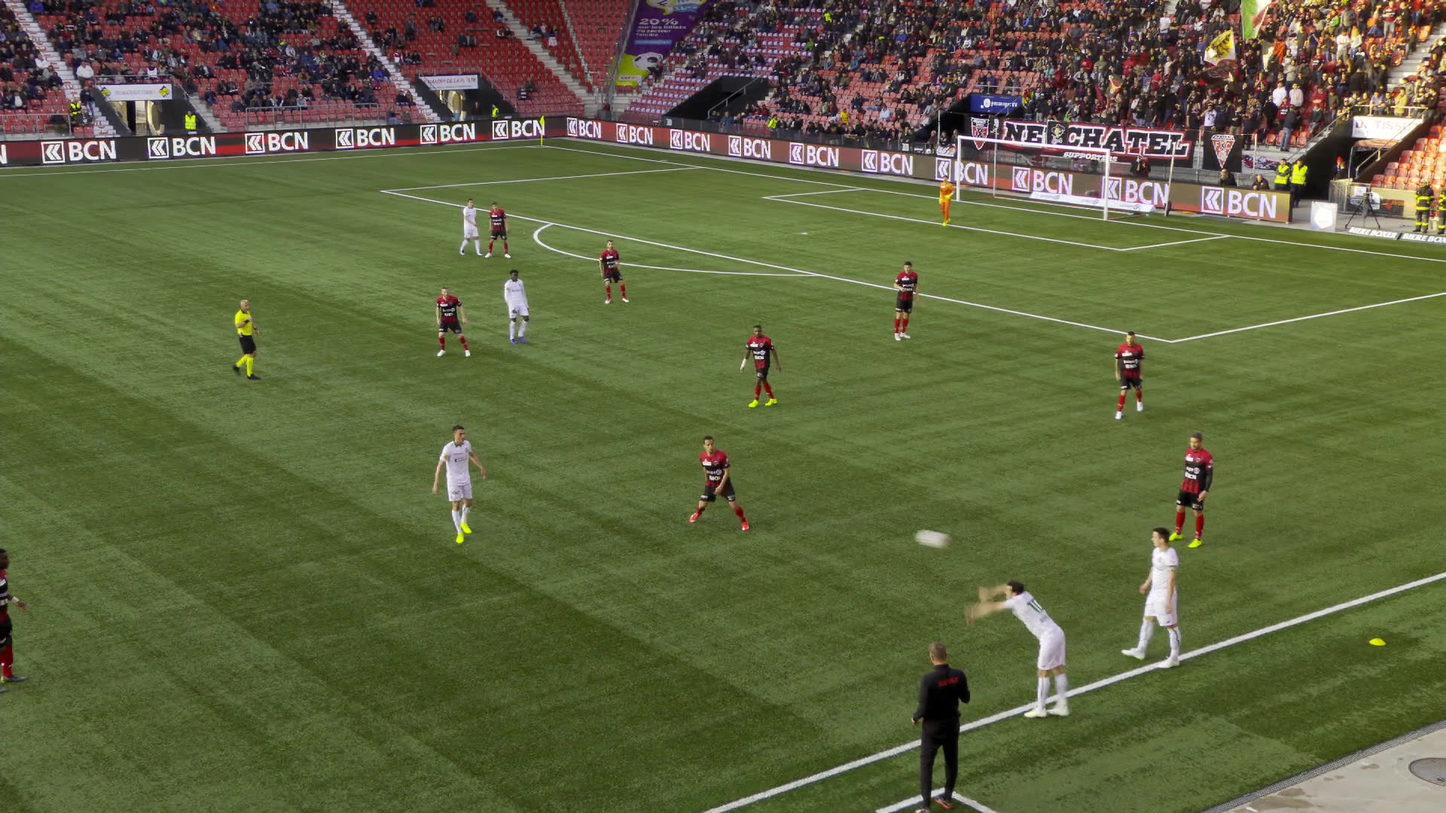ball: (915, 529, 951, 548)
player: (990, 576, 1078, 717), (1123, 527, 1181, 668), (435, 425, 487, 543), (692, 435, 747, 532), (1168, 431, 1213, 547), (0, 549, 29, 690), (743, 324, 783, 407), (1113, 330, 1146, 419), (435, 287, 471, 357), (894, 261, 922, 341), (502, 269, 531, 344), (597, 237, 627, 303), (485, 201, 511, 257), (459, 198, 483, 255), (938, 175, 956, 225)
referee: (230, 299, 261, 379)
